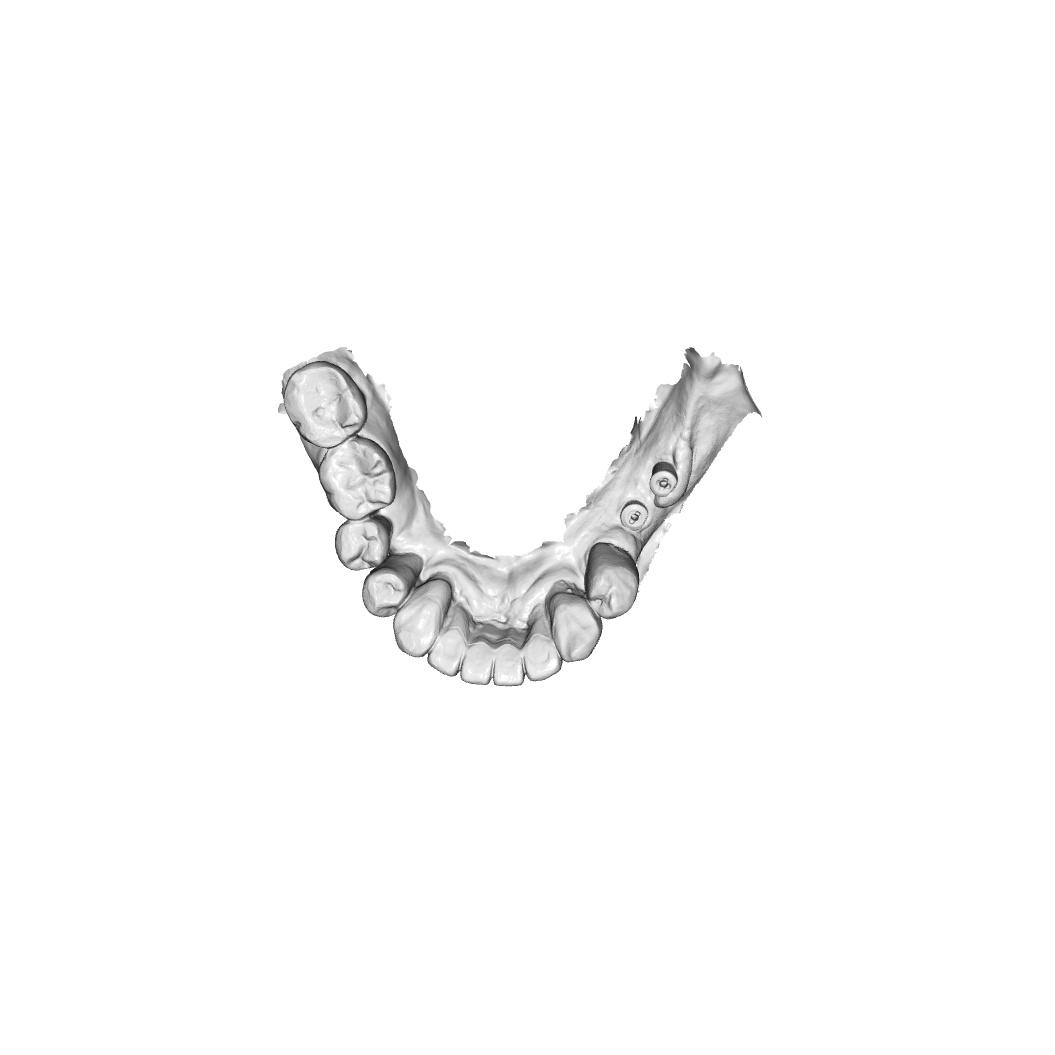canine: (548, 591, 604, 663), (392, 588, 444, 659)
implant_minus: (619, 499, 649, 532)
implant_plus: (648, 461, 679, 500)
incisor: (523, 602, 564, 683), (426, 622, 469, 678), (460, 636, 494, 686), (492, 638, 525, 688)
molar: (282, 360, 369, 450), (318, 436, 397, 521)
premolar: (584, 541, 641, 620), (334, 516, 392, 572), (361, 560, 414, 619)
